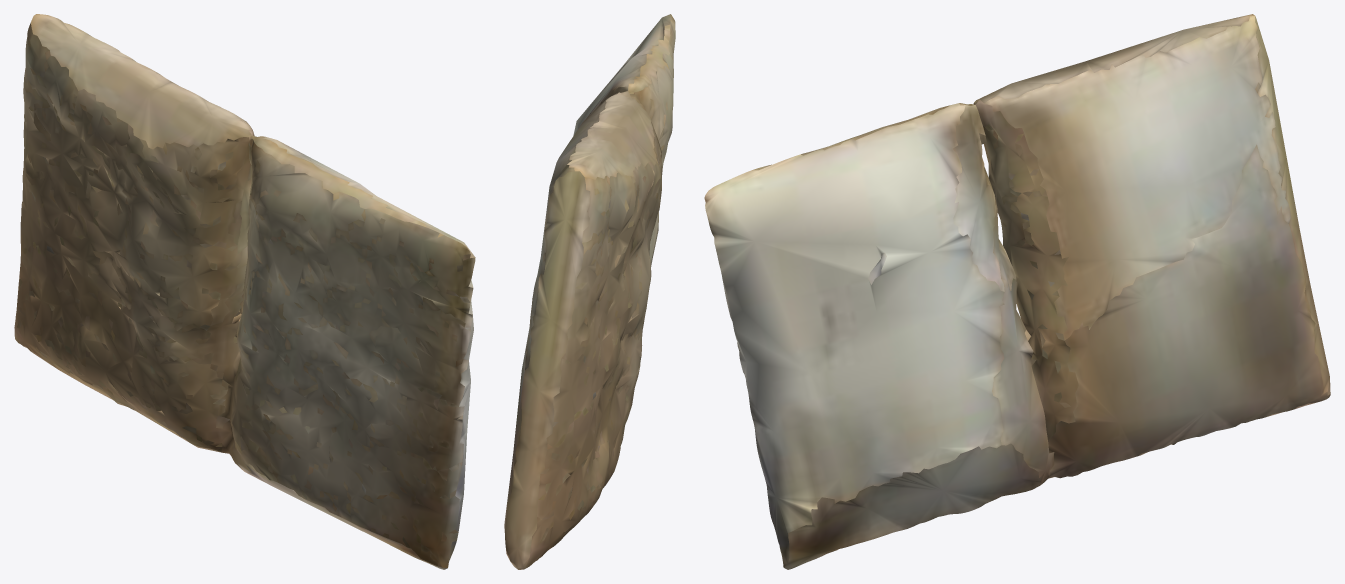
File: 27_mirror.glb
3 views of the same model, side by side, from view 1: azimuth 30°, elevation 25°; view 2: azimuth 150°, elevation 25°; view 3: azimuth 270°, elevation 25° (orthographic). The views are drawn at different scales.
Visible parts, largest first — view 1: 27_mirror; view 2: 27_mirror; view 3: 27_mirror.
Boxes of the visible parts, x1=… form: 27_mirror: x1=14, y1=14, x2=475, y2=569; 27_mirror: x1=504, y1=14, x2=675, y2=569; 27_mirror: x1=704, y1=14, x2=1330, y2=569.
Bounding box in the file's own units: 0.7434 × 1.42 × 1.74.
1 material, 1 textured.
